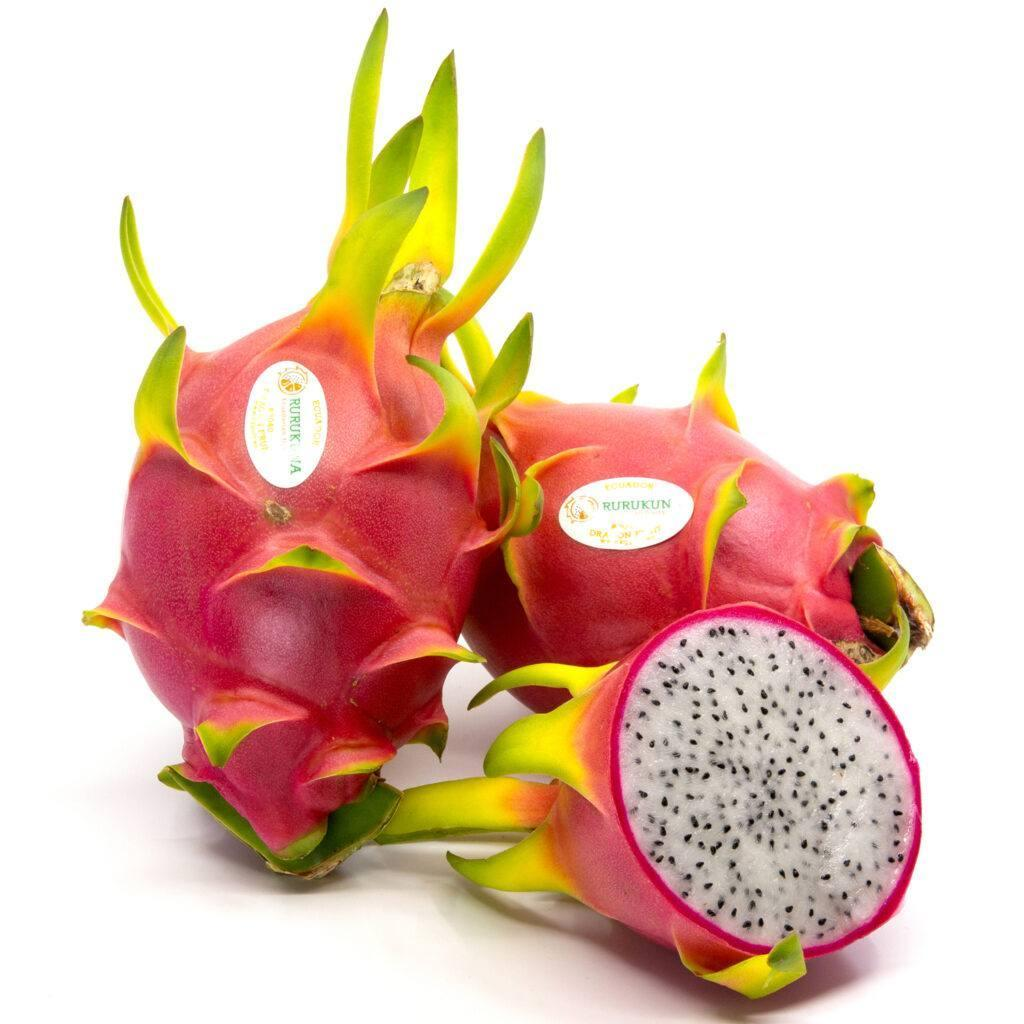dragon-fruit: (116, 286, 492, 856), (550, 598, 924, 976), (458, 397, 887, 717)
